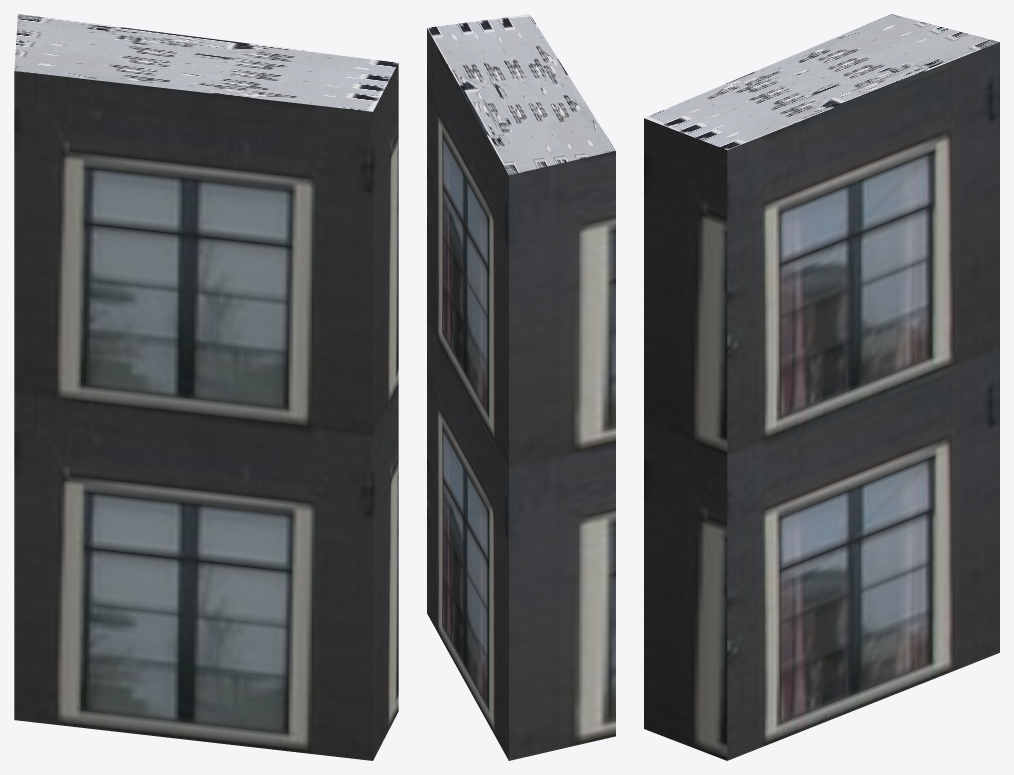
Rendered from ResTex__3504.fbx.
The picture shows the model from 3 angles, left to right: view 1: azimuth 30°, elevation 25°; view 2: azimuth 150°, elevation 25°; view 3: azimuth 270°, elevation 25°; orthographic projection. The views are drawn at different scales.
Parts seen in each view (by area): view 1: CityEngineMaterial_22_m, CityEngineMaterial_4_m; view 2: CityEngineMaterial_22_m, CityEngineMaterial_4_m; view 3: CityEngineMaterial_22_m, CityEngineMaterial_4_m.
Part boxes in pixels (left/top/right/bottom): CityEngineMaterial_22_m: left=14, top=63, right=398, bottom=760; CityEngineMaterial_4_m: left=14, top=14, right=397, bottom=111; CityEngineMaterial_22_m: left=427, top=28, right=615, bottom=760; CityEngineMaterial_4_m: left=427, top=14, right=615, bottom=175; CityEngineMaterial_22_m: left=644, top=42, right=999, bottom=760; CityEngineMaterial_4_m: left=644, top=14, right=999, bottom=149.
Bounding box in the file's own units: 2.87 × 6 × 3.17.
2 materials, 2 textured.
